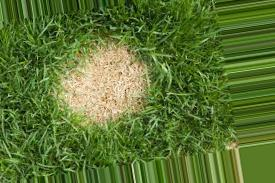patch: (77, 62, 136, 99), (85, 103, 114, 113), (105, 51, 125, 57)
